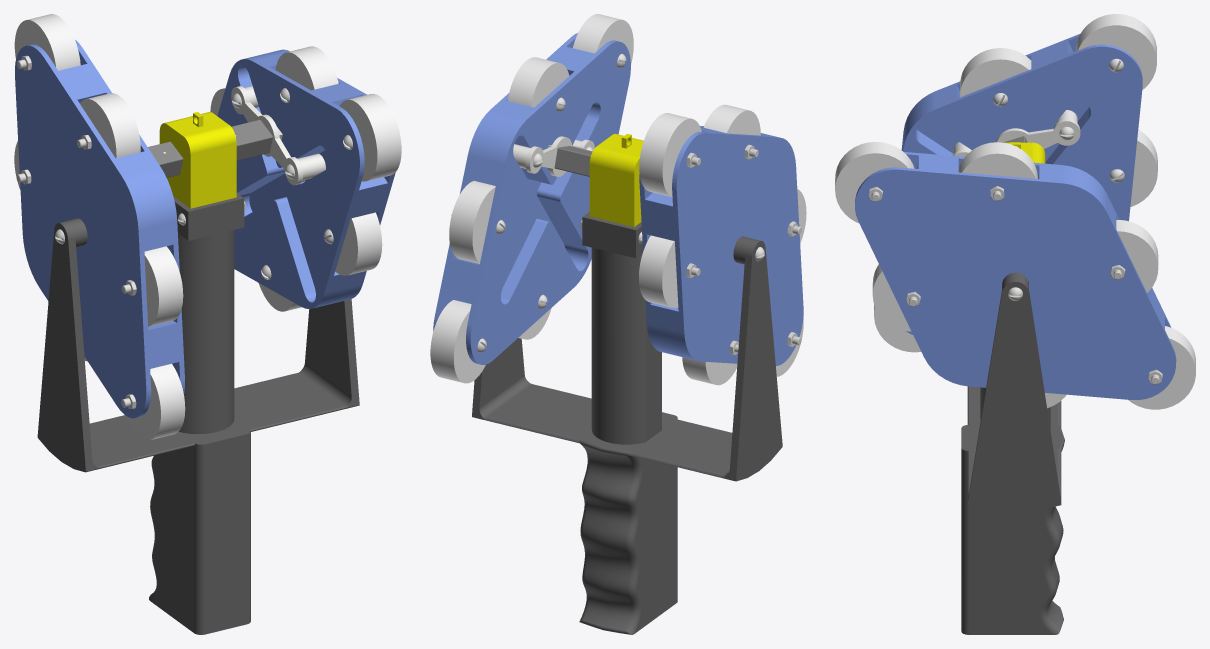
3 renders of one model, left to right at view 1: azimuth 30°, elevation 25°; view 2: azimuth 150°, elevation 25°; view 3: azimuth 270°, elevation 25°, orthographic. The views are drawn at different scales.
Visible parts, largest first — view 1: Model_Space; view 2: Model_Space; view 3: Model_Space.
Part boxes in pixels (bbox=[...]): Model_Space: bbox=[14, 14, 401, 634]; Model_Space: bbox=[430, 14, 806, 634]; Model_Space: bbox=[835, 14, 1195, 634].
Bounding box in the file's own units: 0.1171 × 0.2266 × 0.1333.
